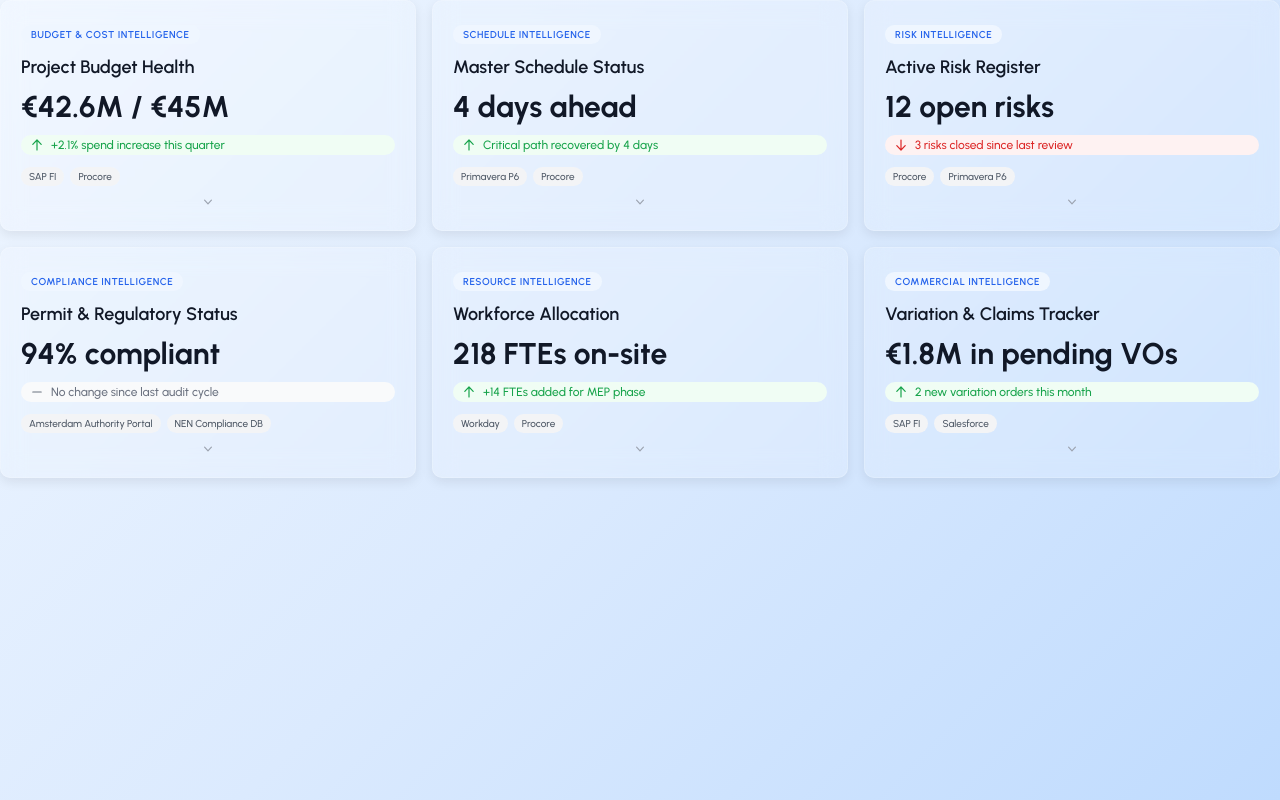
it: IntelligenceClusters › collapses cluster detail text on second click
Click the button with aria-label "Project Budget Health — €42.6M / €45M" at (208, 116), box x1=0 y1=0 x2=416 y2=231
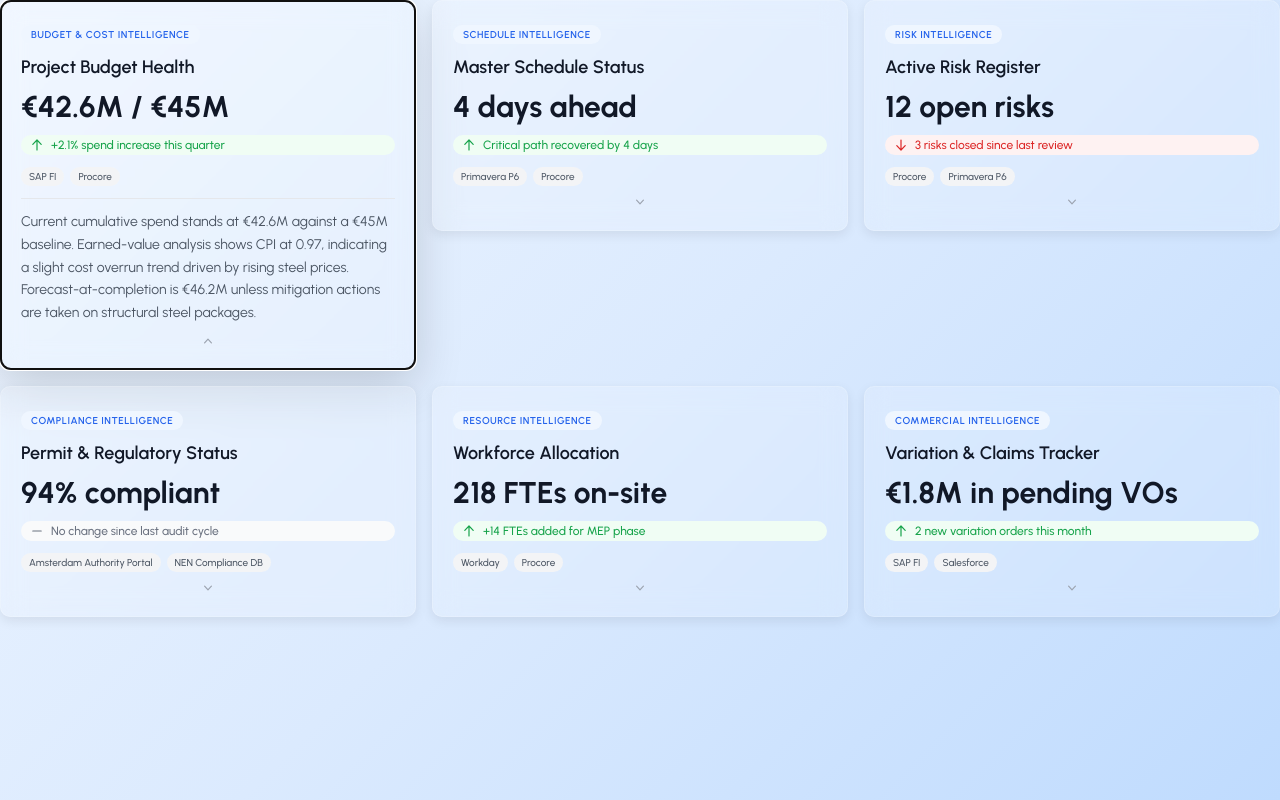
Result: the button with aria-label "Project Budget Health — €42.6M / €45M" is expanded
Click the button with aria-label "Project Budget Health — €42.6M / €45M" at (208, 185), box x1=0 y1=0 x2=416 y2=370
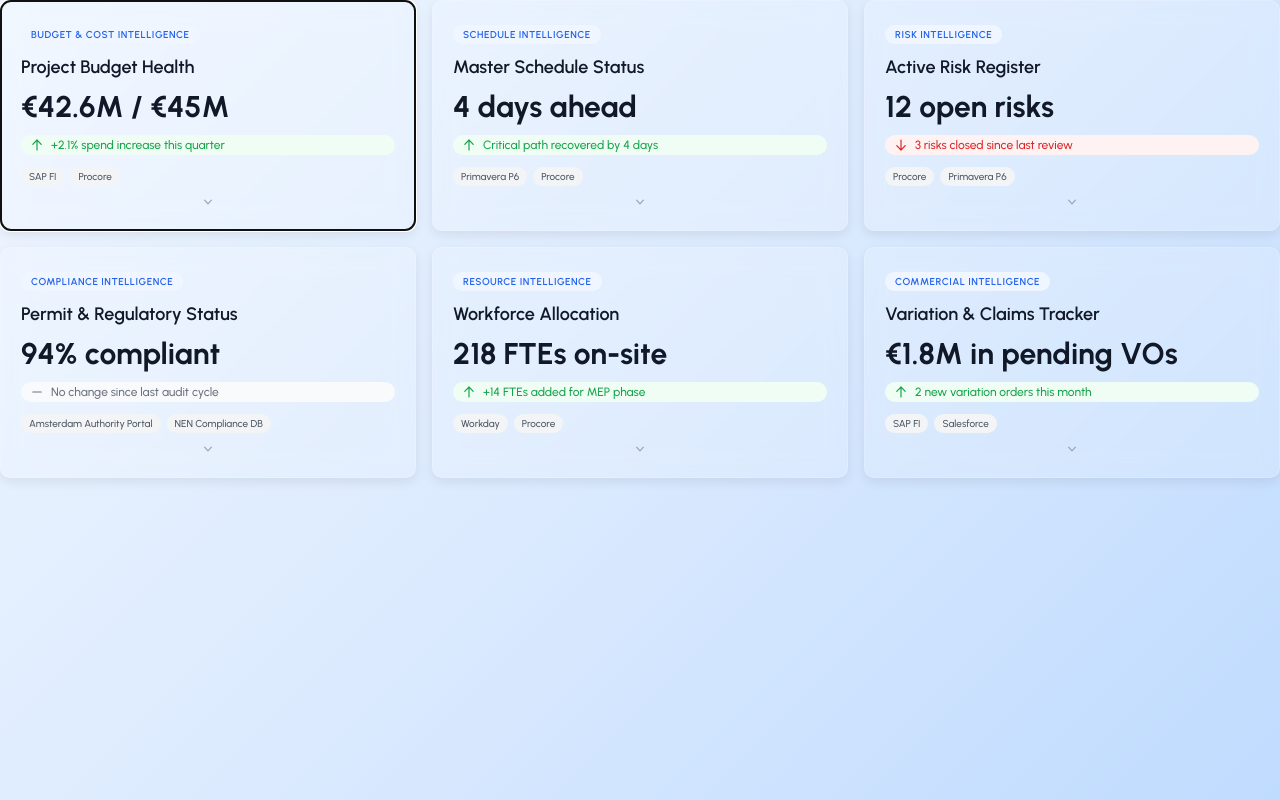
Result: the button with aria-label "Project Budget Health — €42.6M / €45M" is collapsed at x1=0 y1=0 x2=416 y2=231
